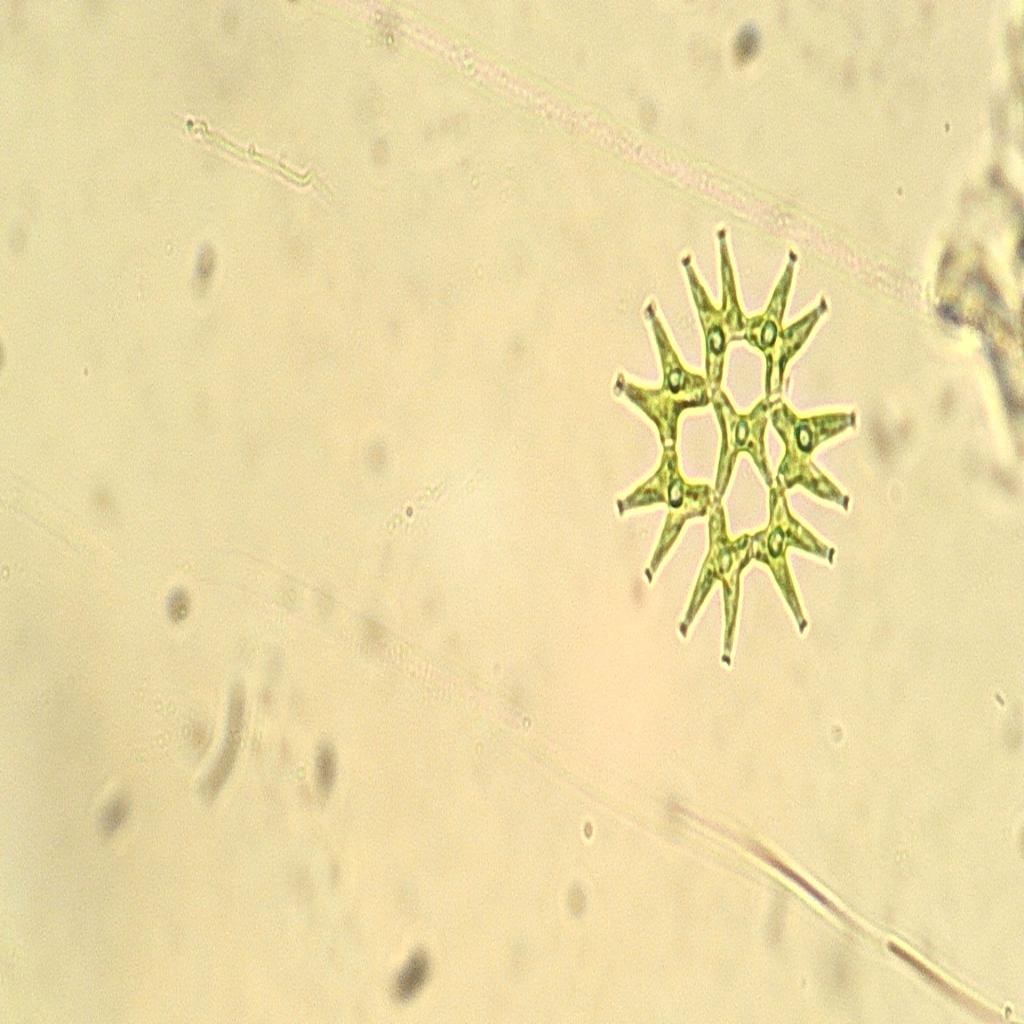Pediastrum_75T: (594, 203, 870, 676)
